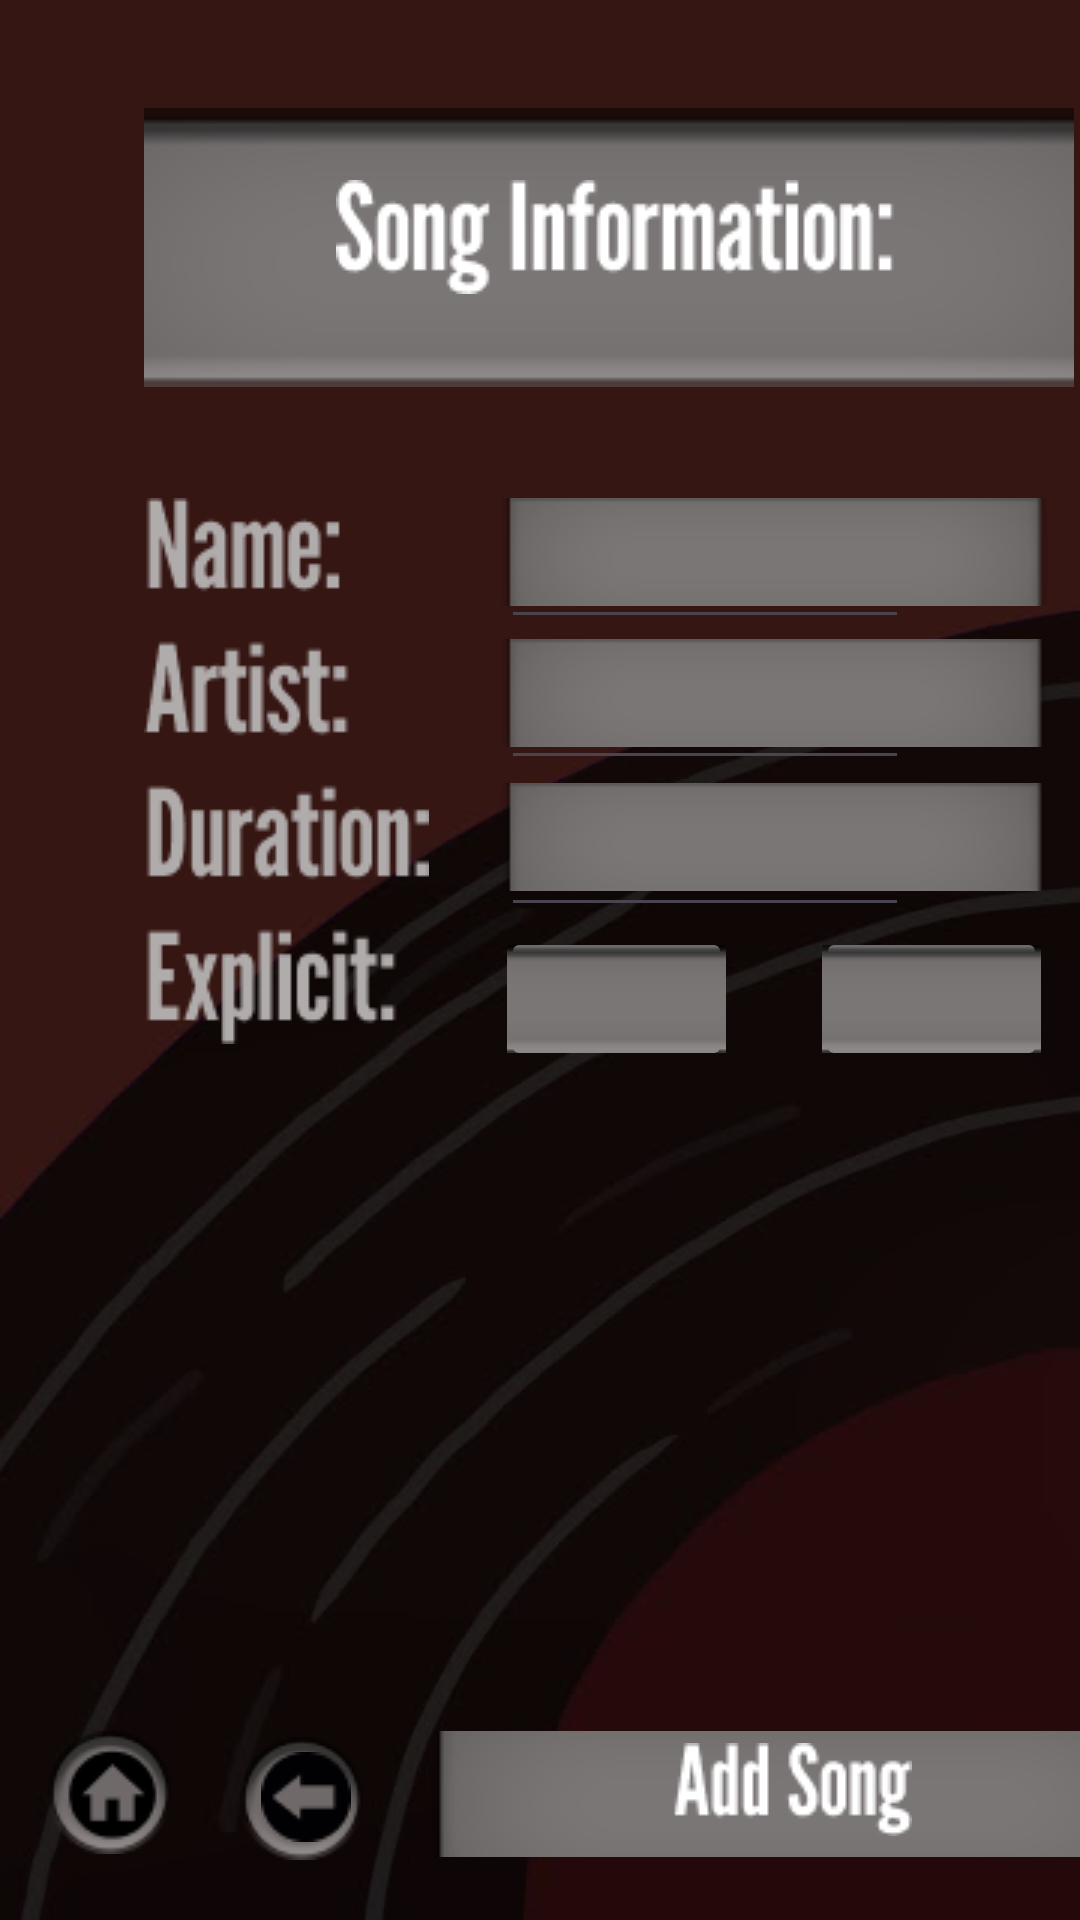

Where to tap for icons on this 1080w x 1920h app screen, as point (x, y):
back arrow: point (306, 1797)
home circle: point (112, 1795)
